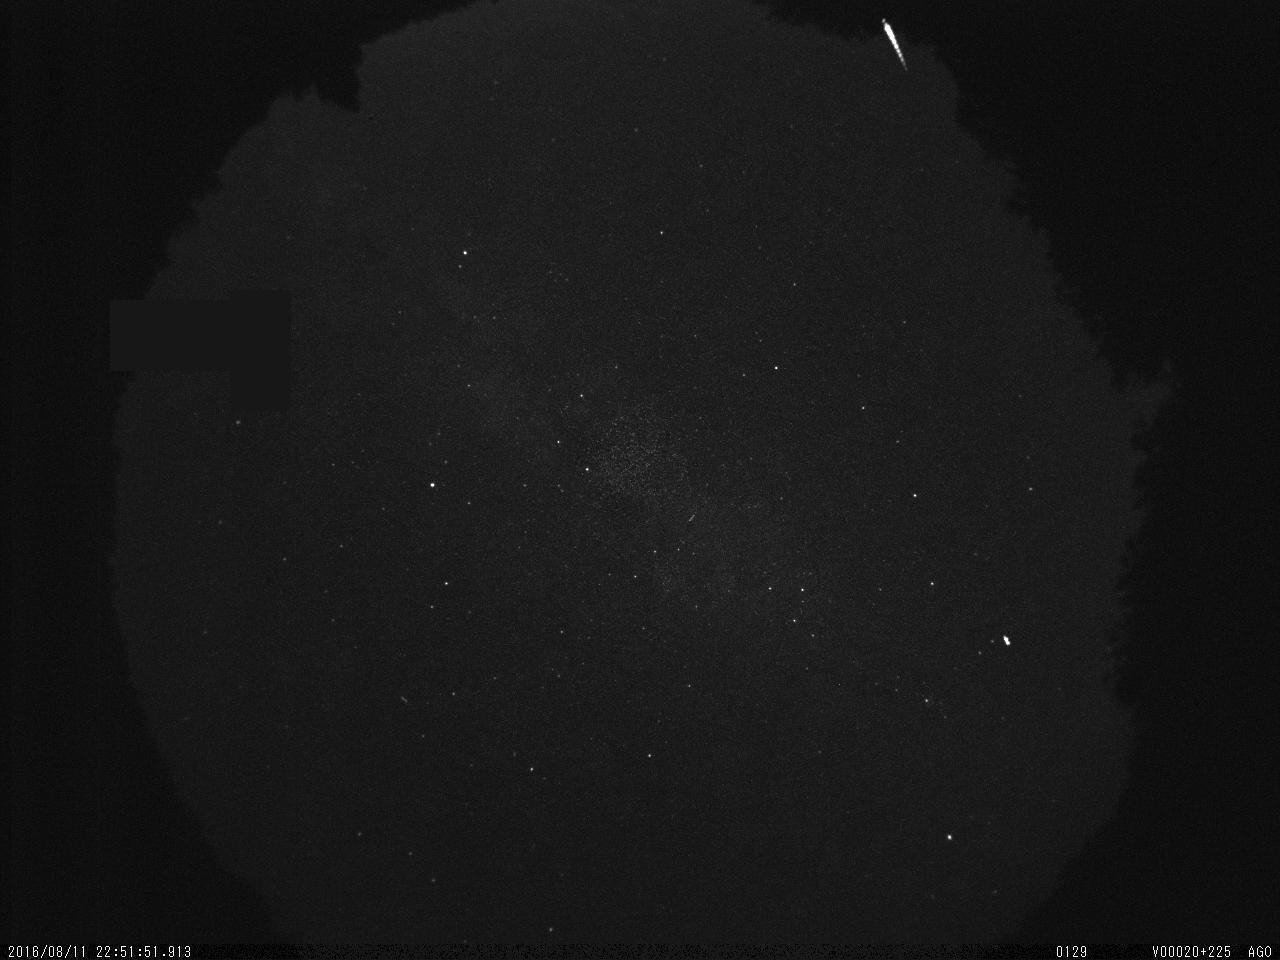Meteor: (879, 17, 909, 72)
